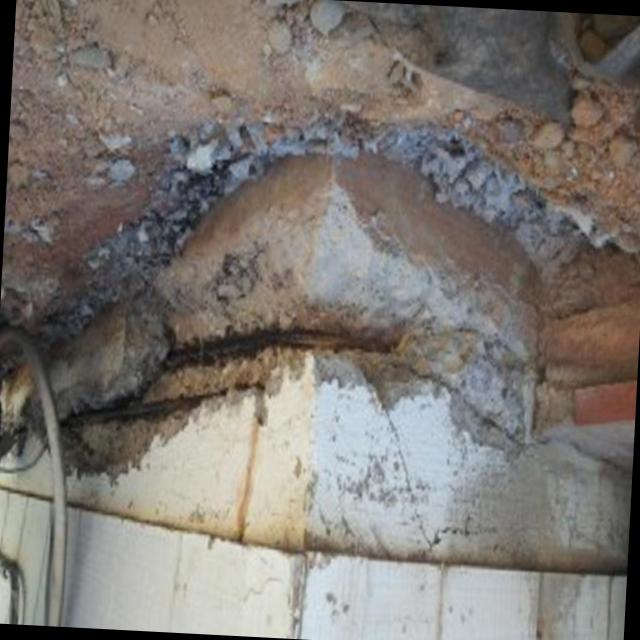spalling: (54, 183, 544, 481)
